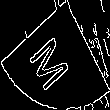M_NE: (30, 21, 80, 89)
